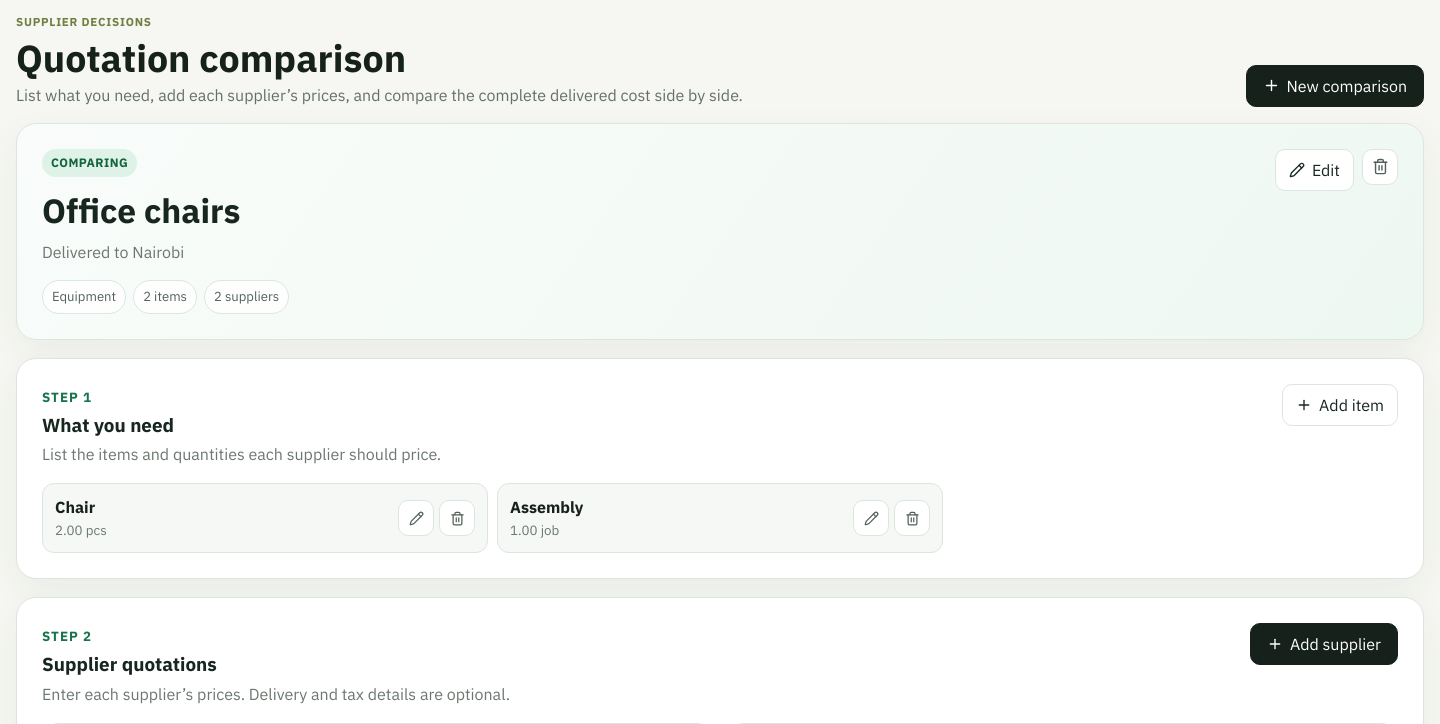
Test: Quotations › keeps quote validity optional and makes extra costs discoverable
The width and height of the screenshot is (1440, 724).
Click the button "Add supplier" at (1324, 644), box left=1250, top=623, right=1398, bottom=665
(page scrolled)
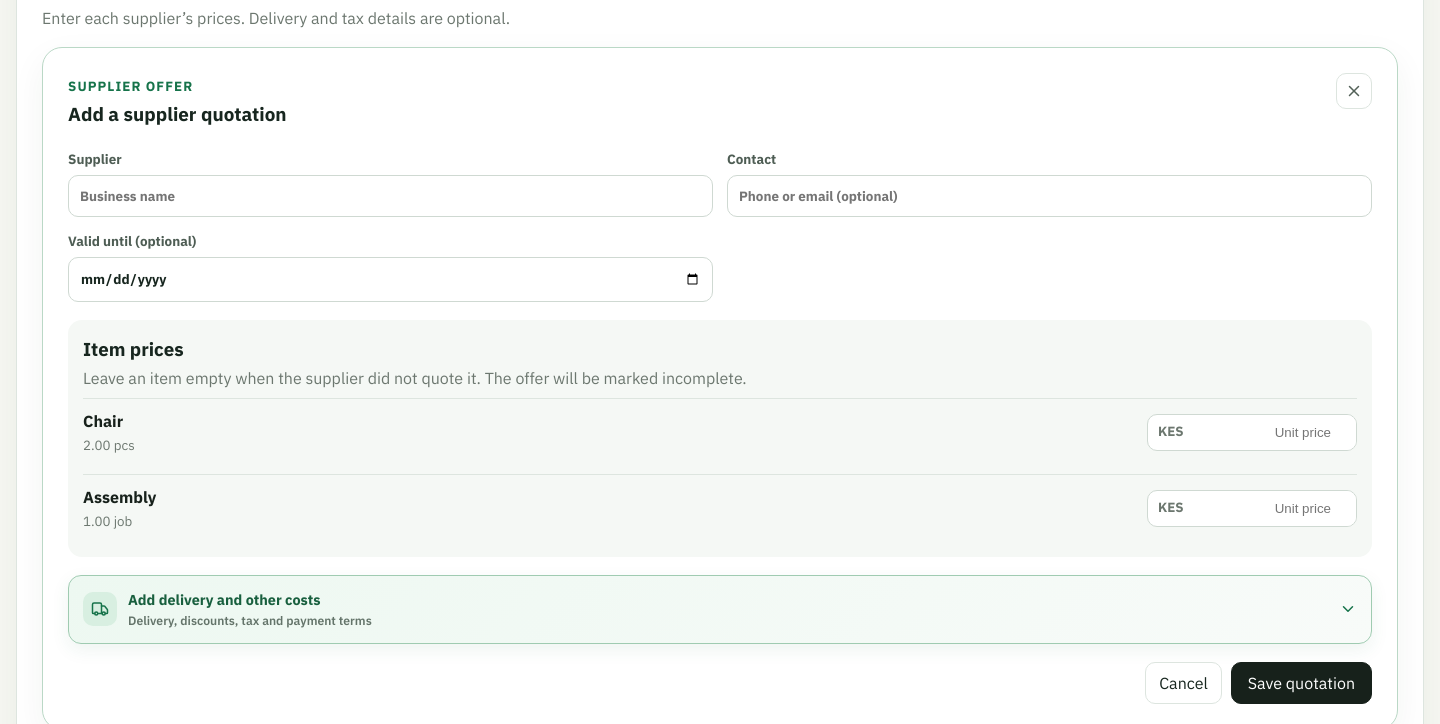
Expected: the field labelled "Delivery cost" is not shown
Click the button "Add delivery and other costs" at (100, 609), box left=68, top=575, right=1372, bottom=644
(page scrolled)
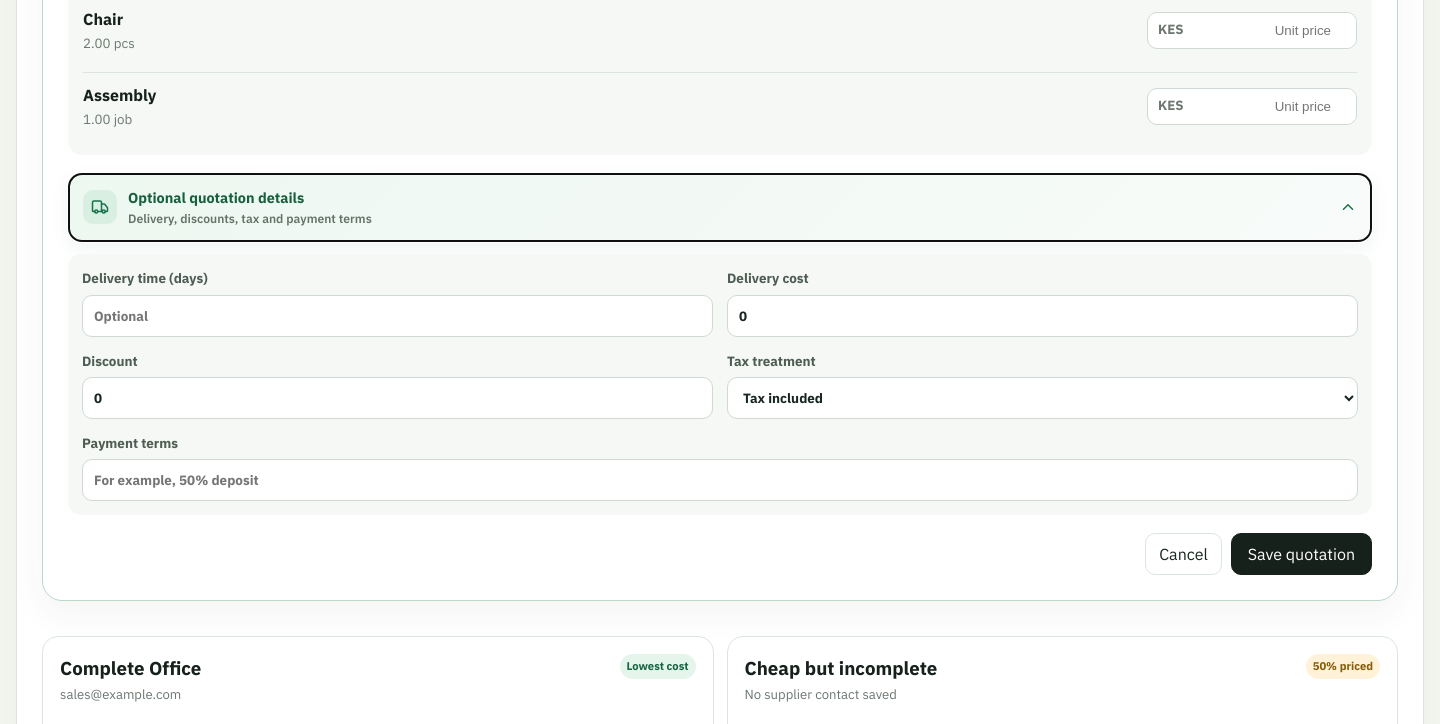
Now the number field labelled "Delivery cost" is shown, box left=727, top=295, right=1358, bottom=337
Now the dropdown labelled "Tax treatment" is shown, box left=727, top=377, right=1358, bottom=419
